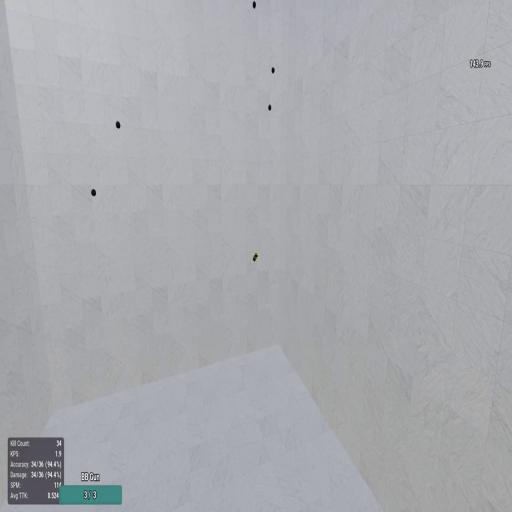Crosshair: (254, 252, 258, 260)
Target: (115, 120, 121, 129), (90, 188, 96, 196), (252, 254, 257, 262), (252, 0, 256, 9), (268, 104, 272, 112), (271, 66, 275, 74)
